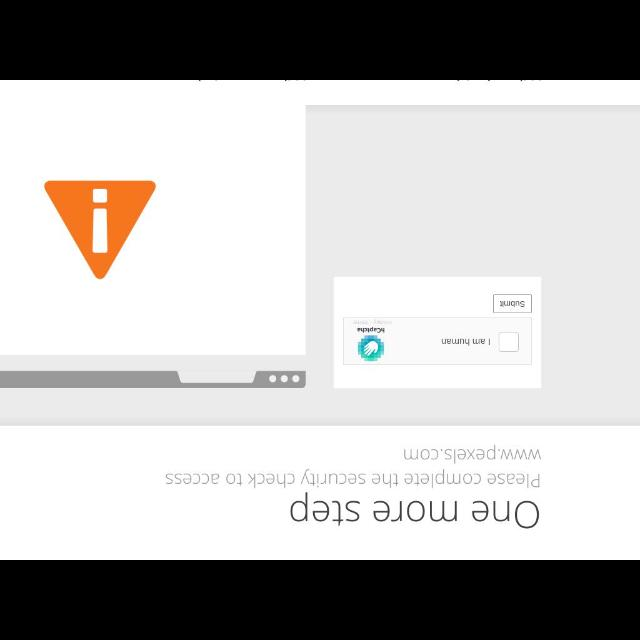checkbox: (498, 332, 520, 352)
image: (1, 80, 306, 388), (357, 334, 385, 362)
text: (165, 444, 541, 488), (290, 492, 538, 528), (441, 336, 491, 346), (352, 318, 392, 326), (355, 326, 385, 334), (499, 300, 525, 308)
textbutton: (492, 294, 532, 314)
